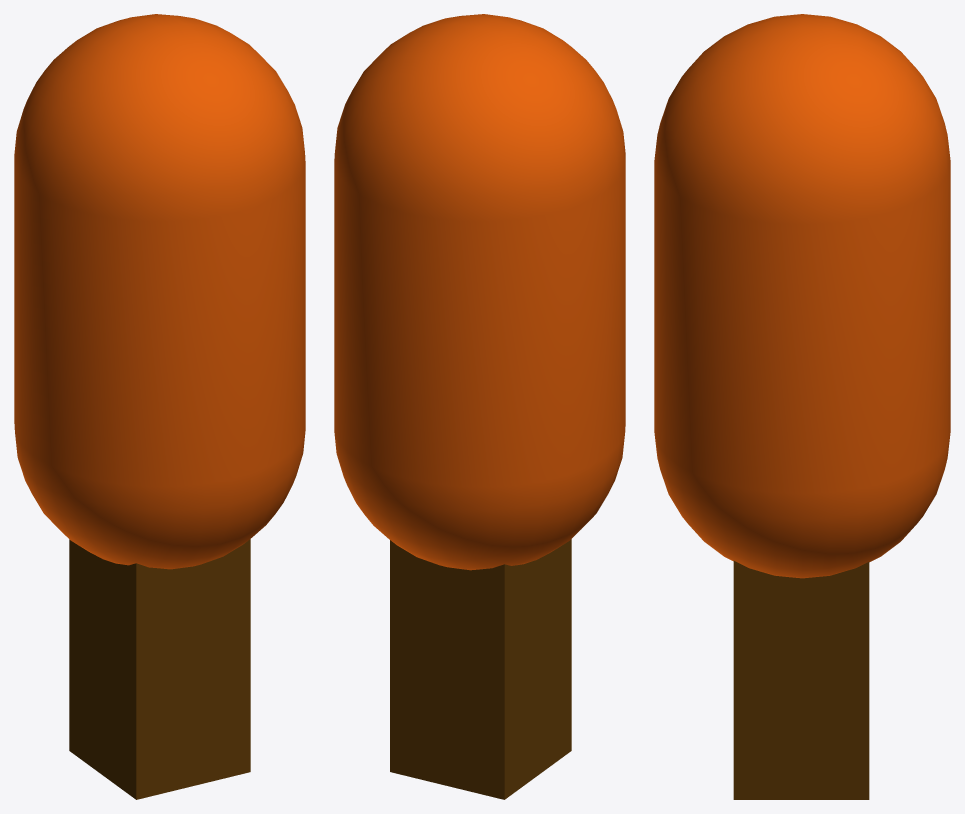
File: orange_tree.fbx
The picture shows the model from 3 angles, left to right: view 1: azimuth 30°, elevation 25°; view 2: azimuth 150°, elevation 25°; view 3: azimuth 270°, elevation 25°; orthographic projection.
Parts seen in each view (by area): view 1: Orange tree.001; view 2: Orange tree.001; view 3: Orange tree.001.
Part boxes in pixels (bbox=[...]): Orange tree.001: bbox=[14, 14, 305, 799]; Orange tree.001: bbox=[334, 14, 625, 799]; Orange tree.001: bbox=[654, 14, 950, 799].
Size of the model in its own units: 6170 by 17086 by 6170.
Materials: 2 (2 with a texture image).
